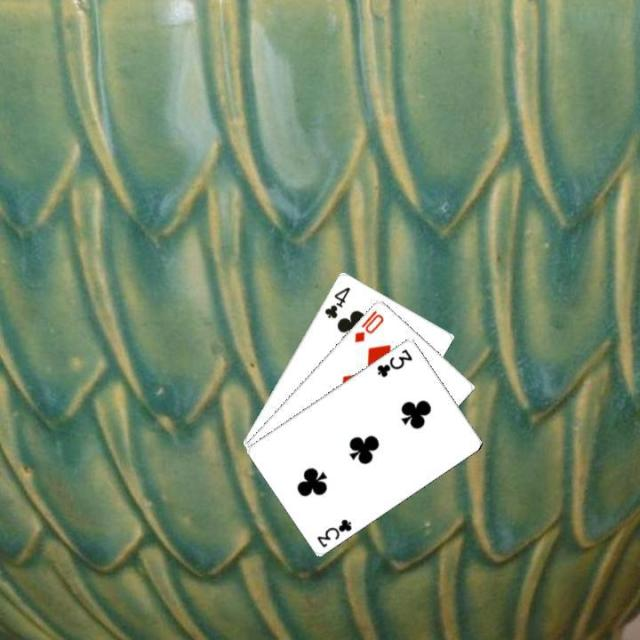10D: (350, 306, 386, 344)
3C: (372, 345, 414, 379), (313, 515, 354, 549)
4C: (320, 283, 352, 320)
